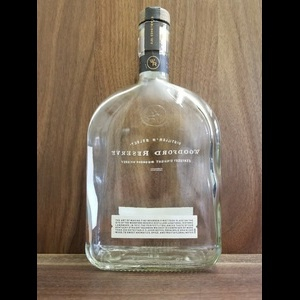emptybottle: (87, 7, 223, 273)
